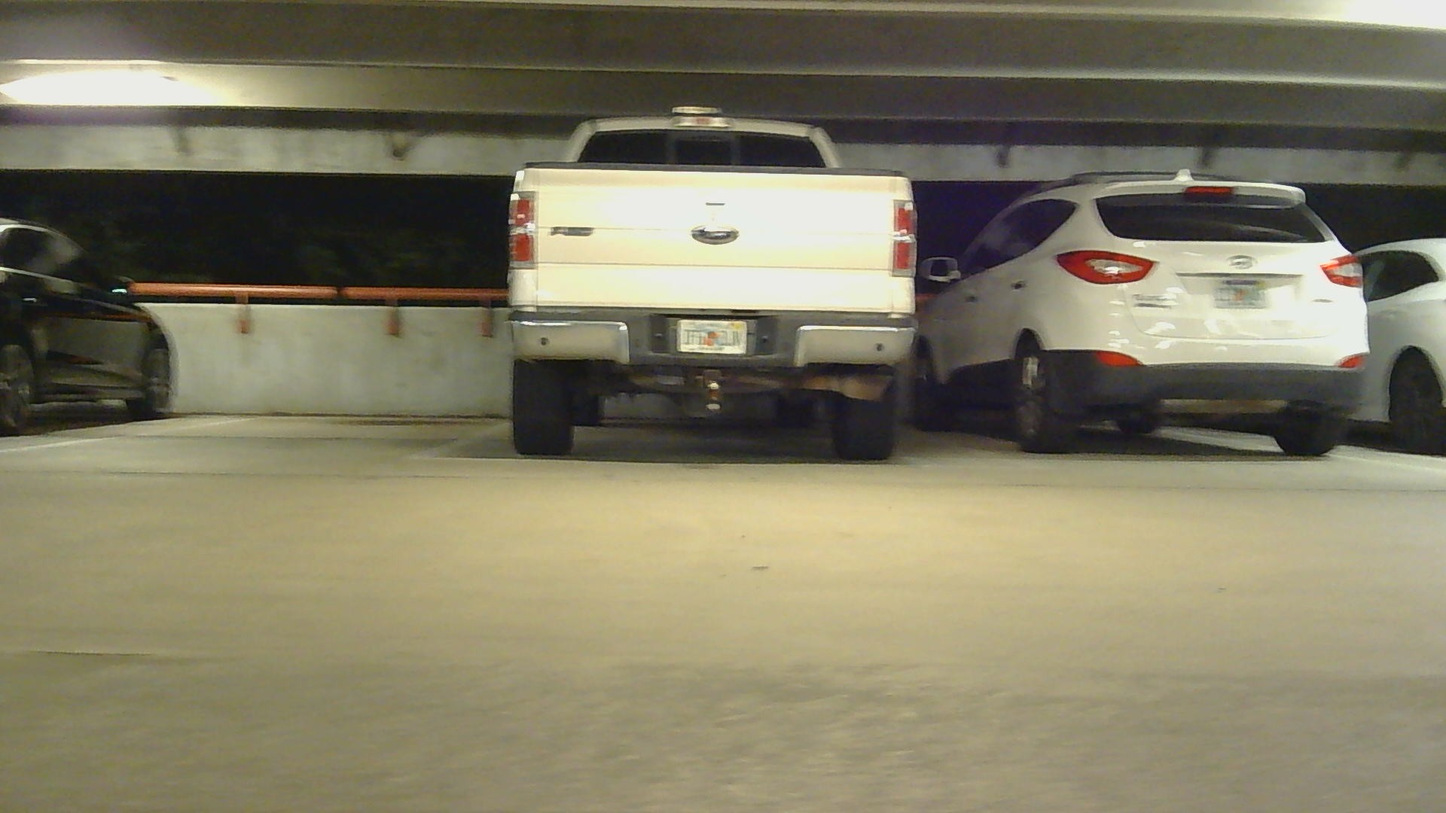empty_spot: (0, 341, 514, 478)
occupied_spot: (506, 110, 921, 456), (902, 177, 1375, 464), (4, 206, 186, 443), (1362, 228, 1445, 443)
